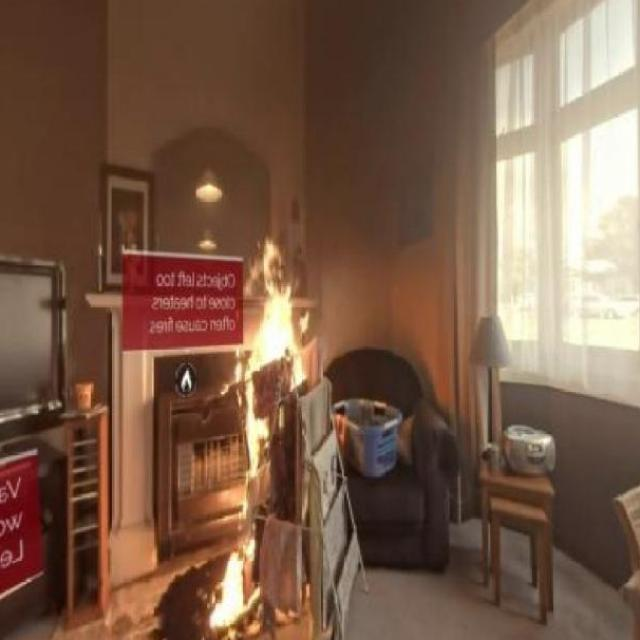smoke: (221, 235, 312, 472), (205, 528, 262, 634)
